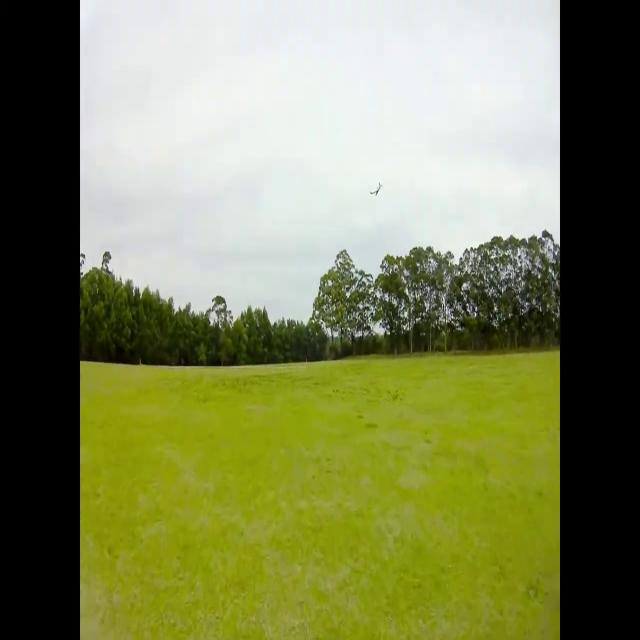iha: (373, 190, 379, 192)
